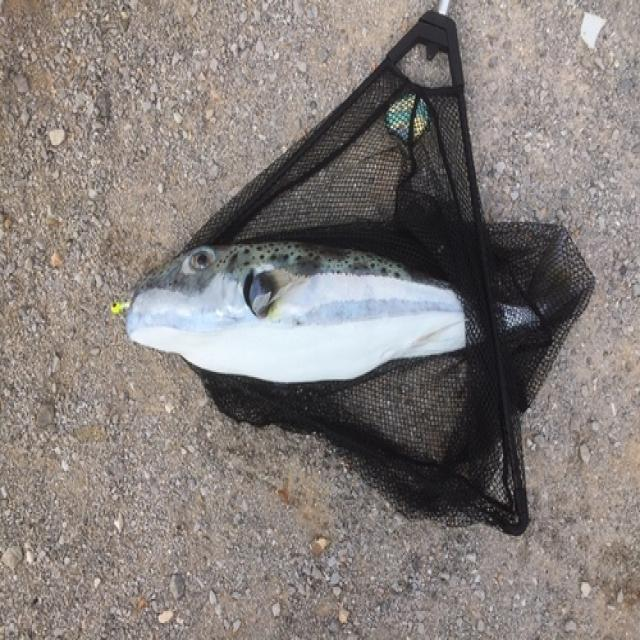Balik: (126, 243, 465, 382)
